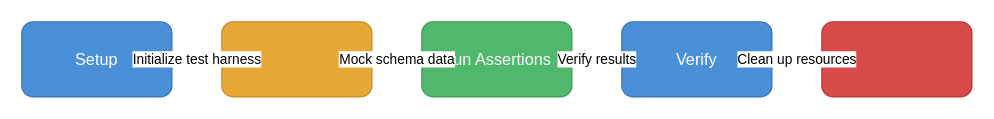
The diagram is 994 pixels wide and 119 high, and some of its shapes have lost their labels. Each missing label, with the centre of its shape:
Load Fixtures: the point at 296,59
Teardown: the point at 896,59
